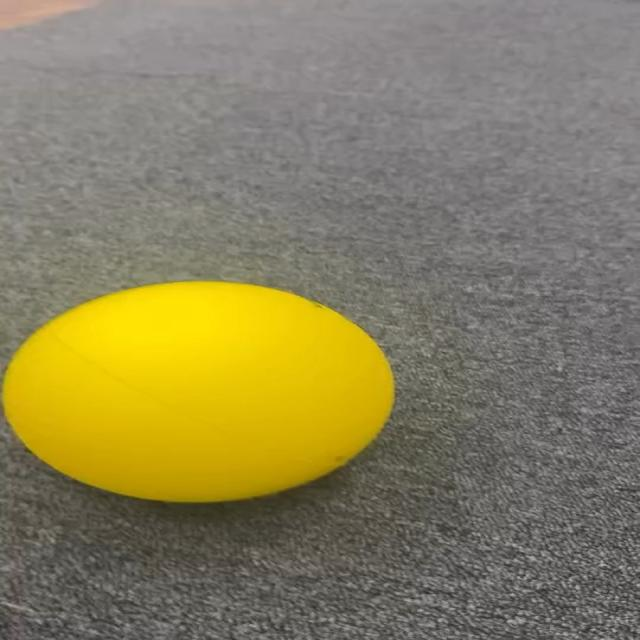Fuels: (1, 278, 392, 498)
